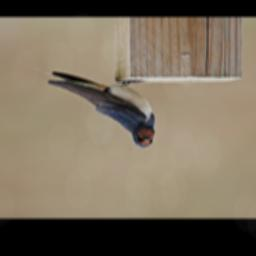Swallow: (13, 59, 157, 150)
